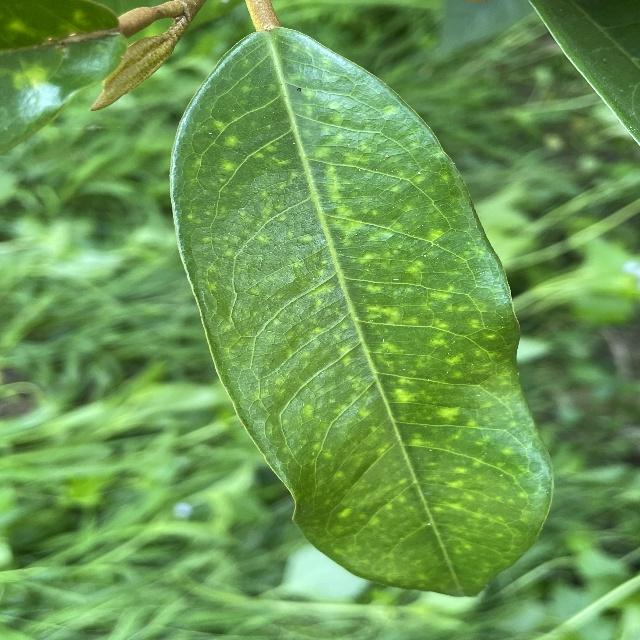Leaf Spot: (165, 13, 561, 603)
